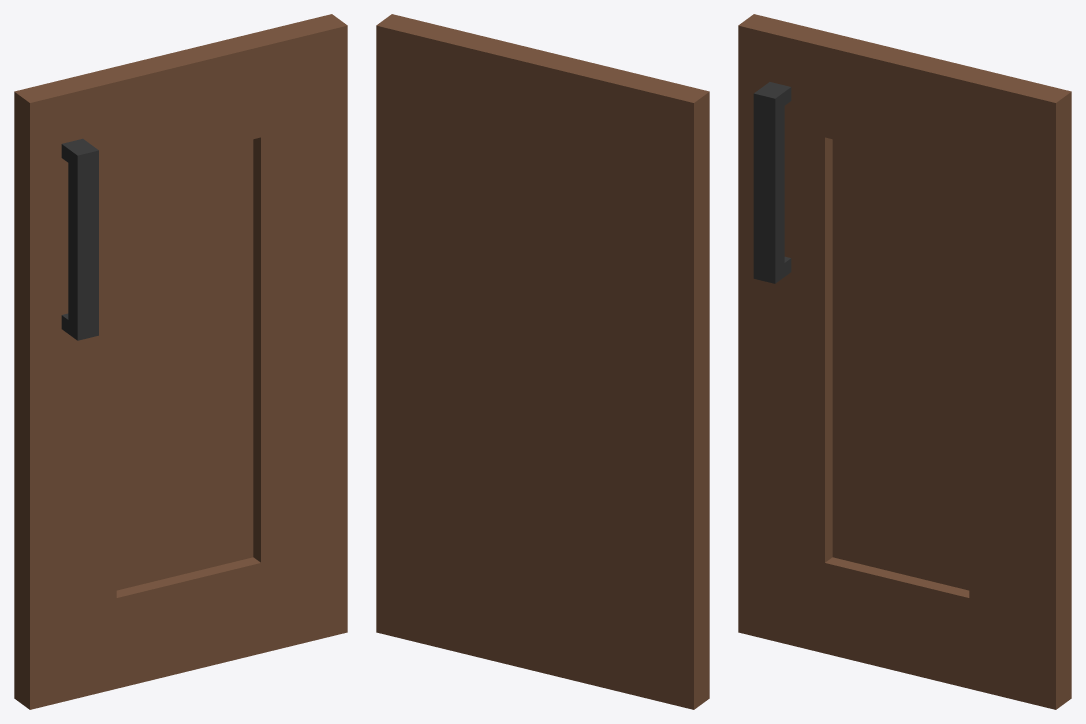
Rendered from Door2_C2_09.fbx.
3 views of the same model, side by side, from view 1: azimuth 30°, elevation 25°; view 2: azimuth 150°, elevation 25°; view 3: azimuth 330°, elevation 25° (orthographic).
Parts seen in each view (by area): view 1: Door2_C2_09; view 2: Door2_C2_09; view 3: Door2_C2_09.
Part boxes in pixels (x1,y1,x2,y2): Door2_C2_09: (14,14,347,709); Door2_C2_09: (376,14,709,709); Door2_C2_09: (738,14,1071,709).
Size of the model in its own units: 29 by 52.92 by 5.03.
